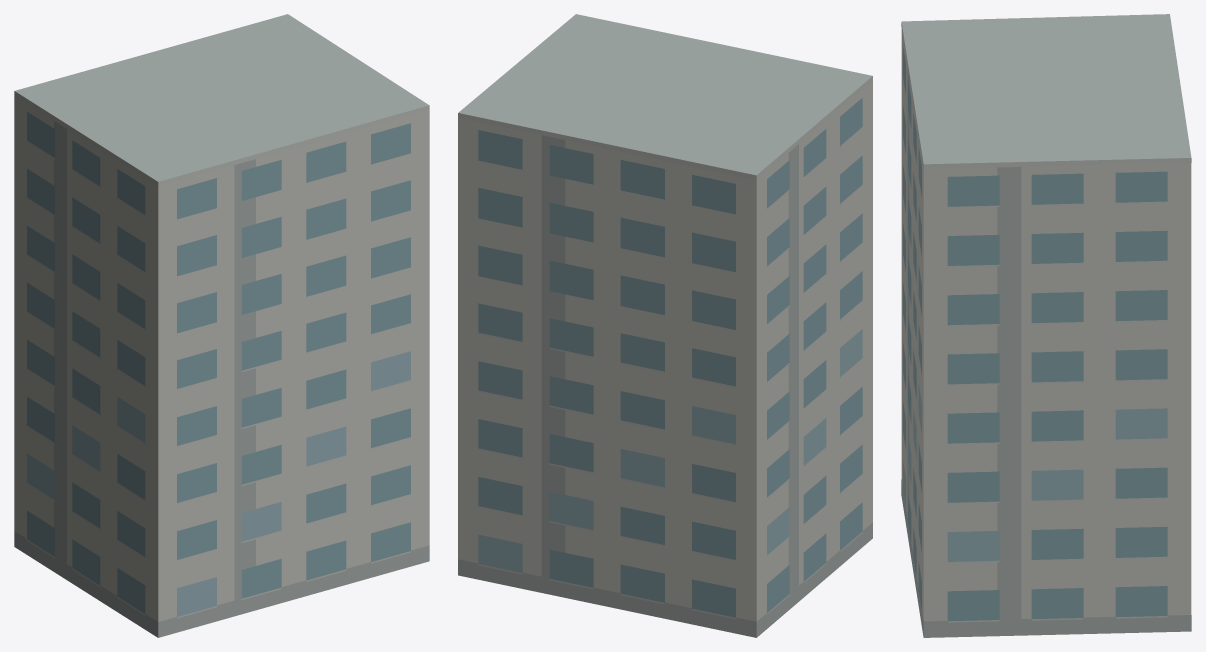
File: survey-upis-32704139.glb
3 renders of one model, left to right at view 1: azimuth 30°, elevation 25°; view 2: azimuth 150°, elevation 25°; view 3: azimuth 270°, elevation 25°, orthographic. The views are drawn at different scales.
Visible parts, largest first — view 1: survey-upis-32704139.tmp; view 2: survey-upis-32704139.tmp; view 3: survey-upis-32704139.tmp.
Part boxes in pixels (x1,y1,x2,y2): survey-upis-32704139.tmp: (14, 14, 429, 637); survey-upis-32704139.tmp: (458, 14, 872, 637); survey-upis-32704139.tmp: (901, 14, 1191, 637).
Bounding box in the file's own units: 15.87 × 23.3 × 12.94.
